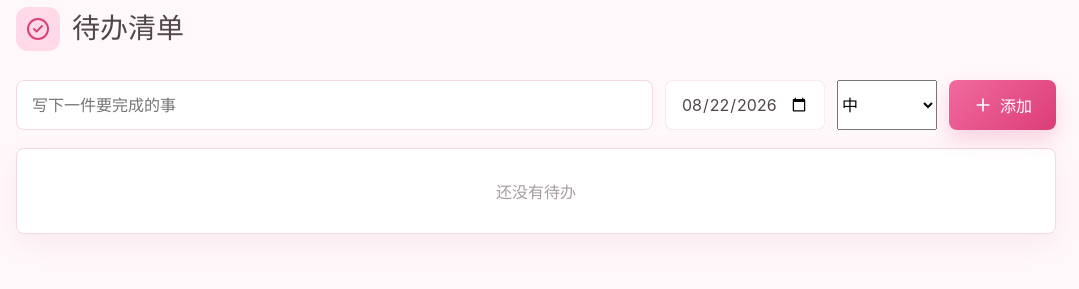
Test: TasksPage › 添加待办后立即显示在列表中
The width and height of the screenshot is (1079, 289).
Type "准备周报" into the field named "新待办" at (334, 105), box [16, 80, 653, 130]
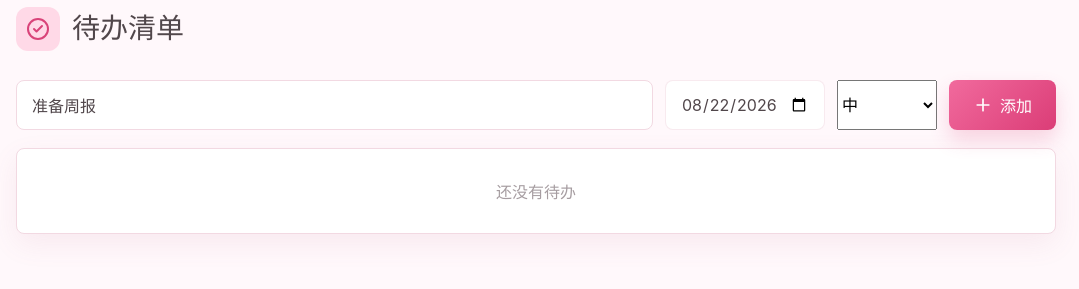
Click the button "添加" at (1002, 105), box [949, 80, 1056, 130]
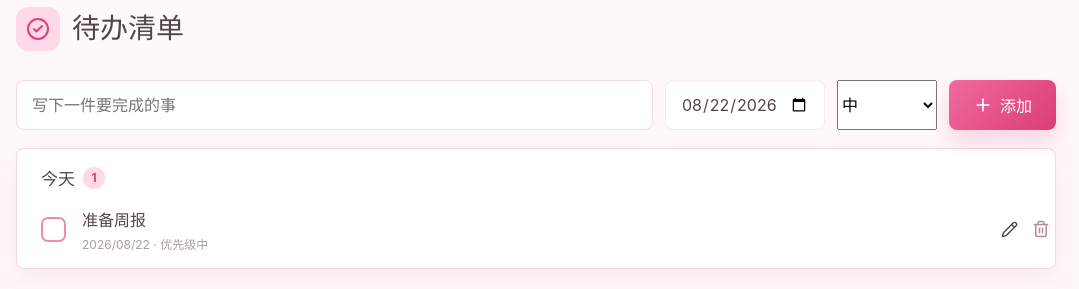
expect the text "准备周报" is shown: met, box [82, 210, 146, 230]
